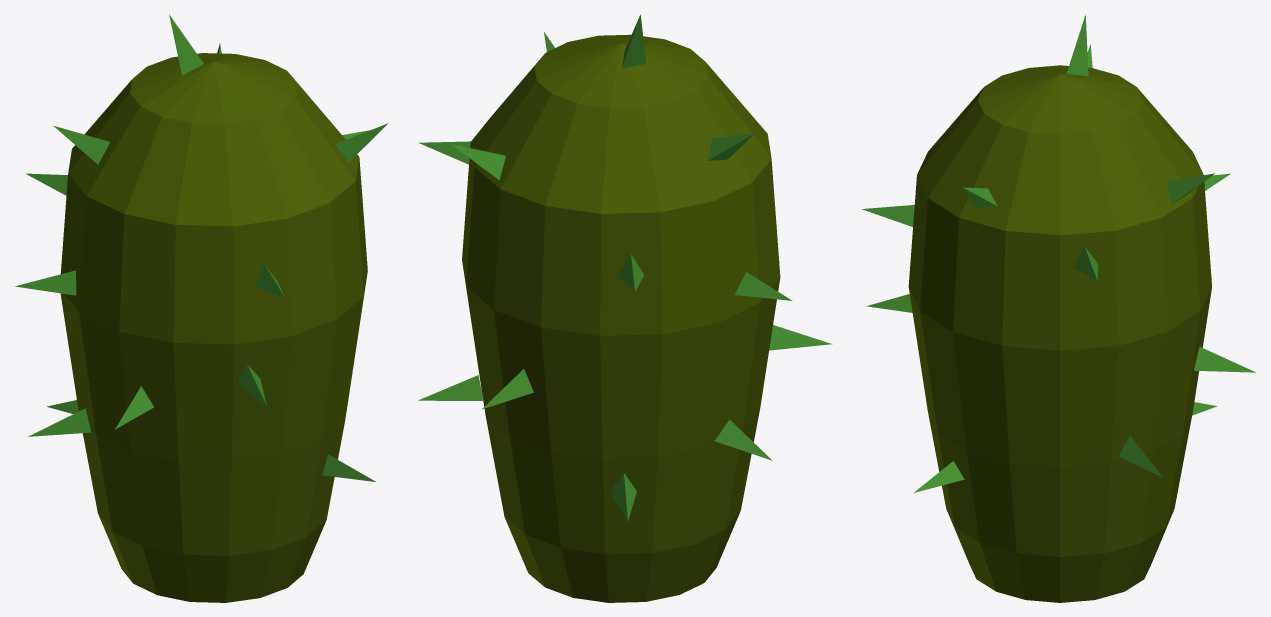
The model's file is Cactus_25_B.fbx.
The picture shows the model from 3 angles, left to right: view 1: azimuth 30°, elevation 25°; view 2: azimuth 150°, elevation 25°; view 3: azimuth 270°, elevation 25°; orthographic projection. The views are drawn at different scales.
Parts seen in each view (by area): view 1: Cactus_25_B; view 2: Cactus_25_B; view 3: Cactus_25_B.
Part boxes in pixels (left/top/right/bottom): Cactus_25_B: left=15, top=14, right=388, bottom=602; Cactus_25_B: left=418, top=14, right=832, bottom=602; Cactus_25_B: left=861, top=15, right=1255, bottom=602.
Size of the model in its own units: 97.34 by 141 by 94.77.
